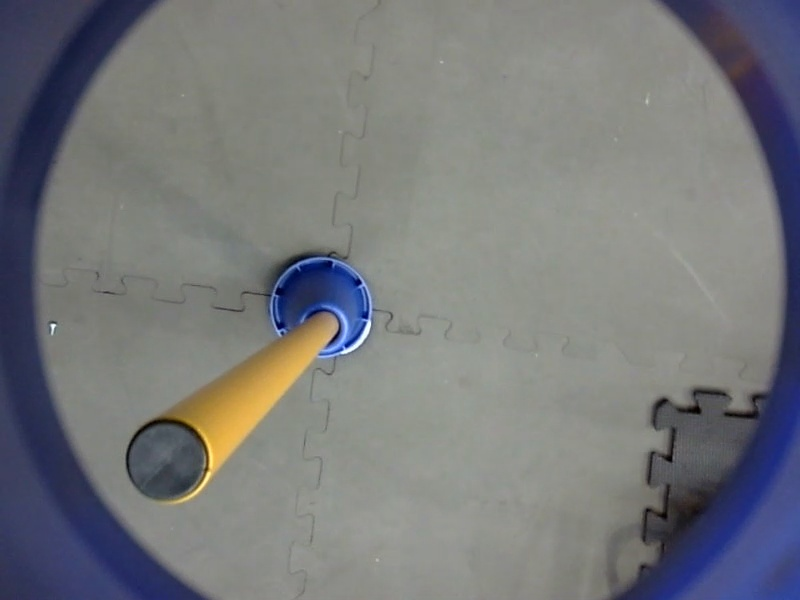tip: (116, 414, 219, 511)
